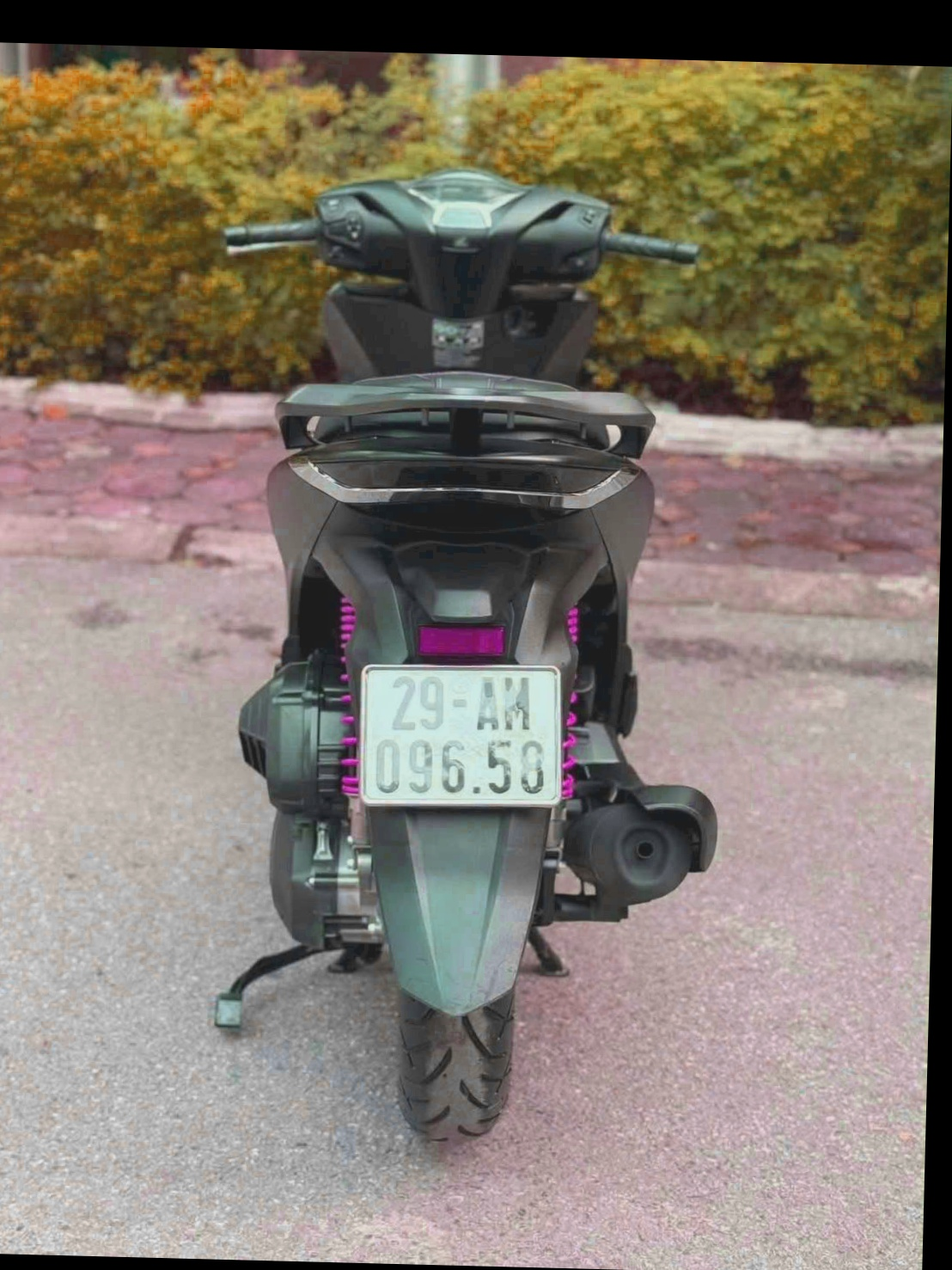Bien-so: (355, 659, 567, 817)
